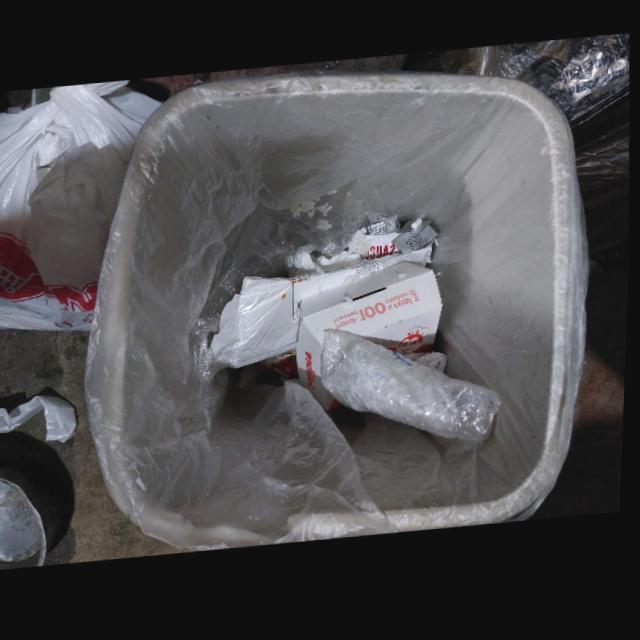paper: (299, 267, 445, 416), (295, 247, 365, 279), (406, 357, 456, 378)
plastic: (214, 249, 435, 376), (324, 332, 503, 449)
wrapper: (363, 237, 404, 266)
